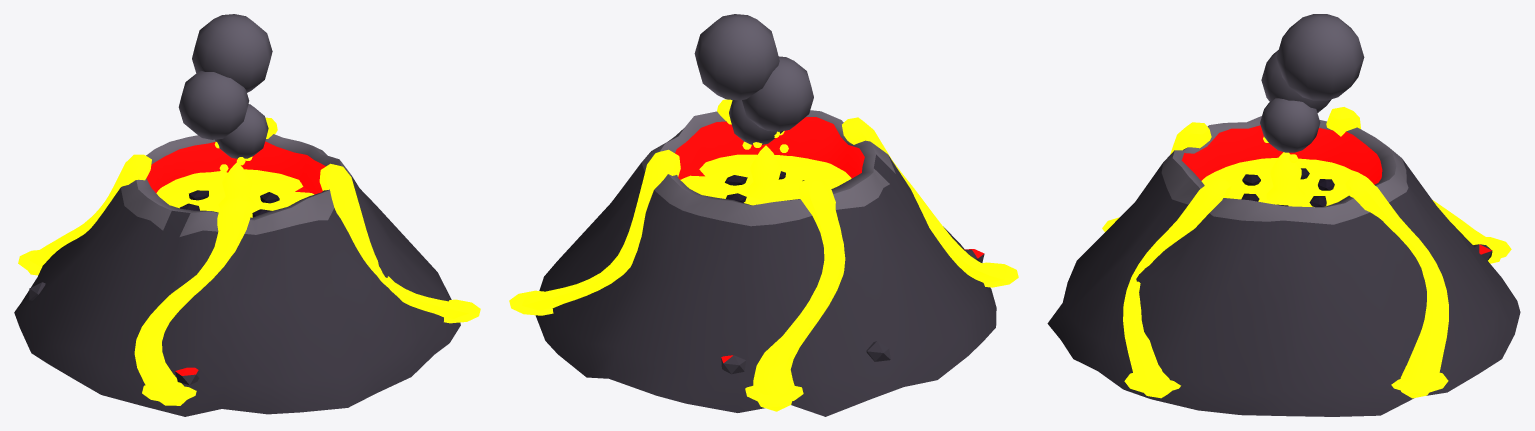
File: W4_VolcanoCrater.fbx
3 renders of one model, left to right at view 1: azimuth 30°, elevation 25°; view 2: azimuth 150°, elevation 25°; view 3: azimuth 270°, elevation 25°, orthographic. The views are drawn at different scales.
Visible parts, largest first — view 1: W4_VolcanoCrater; view 2: W4_VolcanoCrater; view 3: W4_VolcanoCrater.
Boxes of the visible parts, <box> form: W4_VolcanoCrater: <box>14,14,480,416</box>; W4_VolcanoCrater: <box>509,14,1018,416</box>; W4_VolcanoCrater: <box>1047,14,1520,416</box>.
Bounding box in the file's own units: 33.93 × 25.32 × 34.45.
